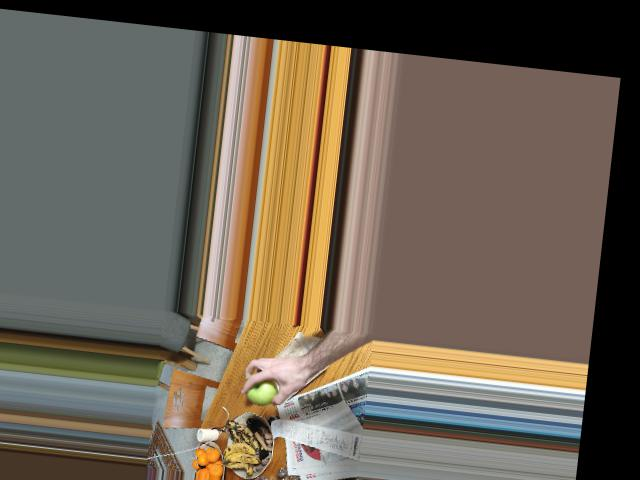apple: (240, 370, 286, 406)
